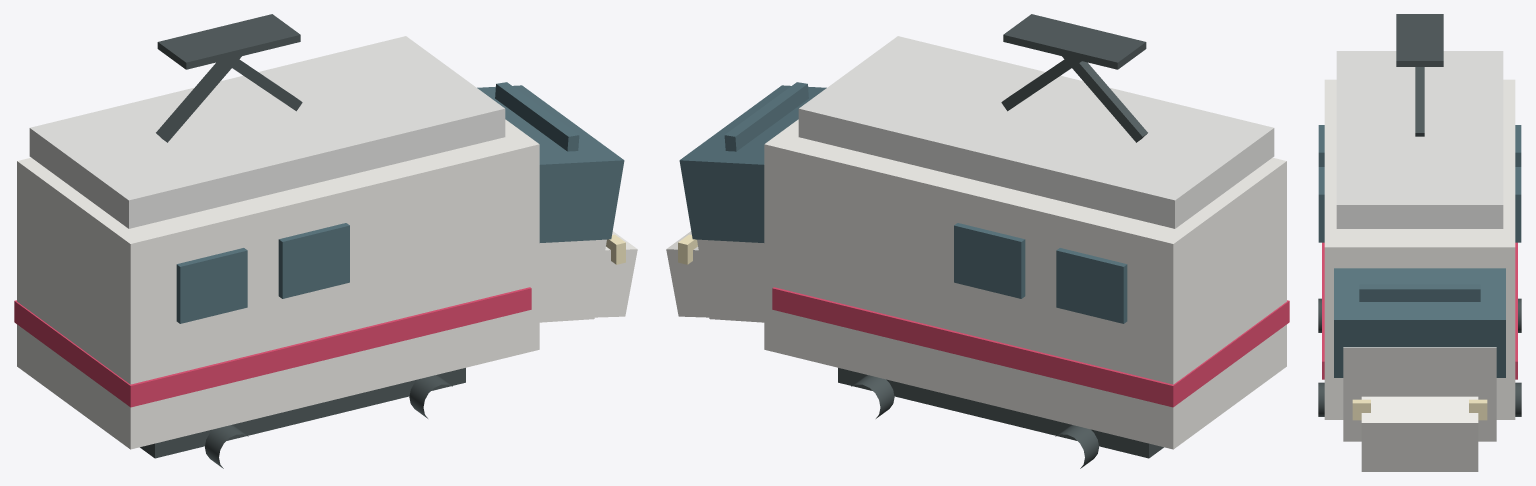
File: ice3.glb
3 renders of one model, left to right at view 1: azimuth 30°, elevation 25°; view 2: azimuth 150°, elevation 25°; view 3: azimuth 270°, elevation 25°, orthographic. The views are drawn at different scales.
Visible parts, largest first — view 1: body_shell, roof, livery_stripe, ice3_continuous_mask, cab_nose_lower, window_0.72_0_1, window_0.72_1_1, pantograph_head_-0.18, undercarriage, cab_nose_tip, front_glass, pantograph_left_-0.18 (+3 smaller); view 2: body_shell, roof, livery_stripe, ice3_continuous_mask, cab_nose_lower, window_0.72_0_0, window_0.72_1_0, pantograph_head_-0.18, undercarriage, cab_nose_tip, front_glass, pantograph_left_-0.18 (+3 smaller); view 3: roof, body_shell, ice3_continuous_mask, cab_nose_lower, cab_nose_tip, pantograph_head_-0.18, front_glass, livery_stripe, pantograph_right_-0.18, window_0.72_1_0, window_0.72_1_1, headlight_0 (+5 smaller).
Part boxes in pixels (x1,y1,x2,y2): body_shell: [17, 119, 539, 449]; roof: [29, 36, 505, 228]; livery_stripe: [14, 287, 531, 407]; ice3_continuous_mask: [477, 85, 624, 242]; cab_nose_lower: [539, 239, 606, 322]; window_0.72_0_1: [176, 248, 247, 323]; window_0.72_1_1: [278, 223, 349, 298]; pantograph_head_-0.18: [157, 14, 300, 69]; undercarriage: [140, 368, 465, 458]; cab_nose_tip: [594, 231, 637, 317]; front_glass: [495, 82, 579, 151]; pantograph_left_-0.18: [156, 56, 241, 142]; body_shell: [764, 119, 1286, 449]; roof: [798, 36, 1274, 228]; livery_stripe: [772, 287, 1289, 407]; ice3_continuous_mask: [679, 85, 826, 242]; cab_nose_lower: [697, 239, 764, 322]; window_0.72_0_0: [1056, 248, 1127, 323]; window_0.72_1_0: [954, 223, 1025, 298]; pantograph_head_-0.18: [1003, 14, 1146, 69]; undercarriage: [838, 368, 1163, 458]; cab_nose_tip: [666, 231, 709, 317]; front_glass: [724, 82, 808, 151]; pantograph_left_-0.18: [1062, 56, 1147, 142]; roof: [1336, 51, 1503, 228]; body_shell: [1324, 79, 1515, 419]; ice3_continuous_mask: [1334, 268, 1505, 377]; cab_nose_lower: [1343, 347, 1496, 441]; cab_nose_tip: [1361, 396, 1478, 471]; pantograph_head_-0.18: [1396, 14, 1443, 66]; front_glass: [1359, 284, 1480, 301]; livery_stripe: [1322, 242, 1517, 379]; pantograph_right_-0.18: [1415, 67, 1424, 136]; window_0.72_1_0: [1515, 167, 1521, 242]; window_0.72_1_1: [1318, 167, 1324, 242]; headlight_0: [1469, 399, 1487, 420].
Size of the model in its own units: 1.95 by 1.32 by 0.77.
